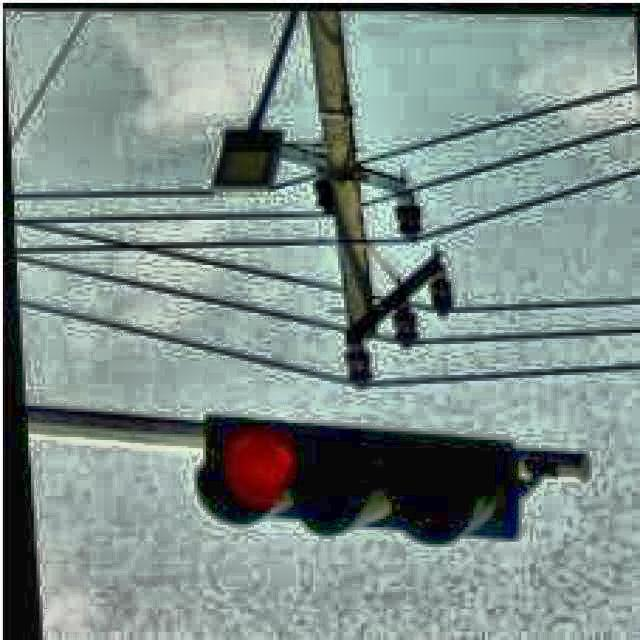red: (195, 414, 548, 550)
